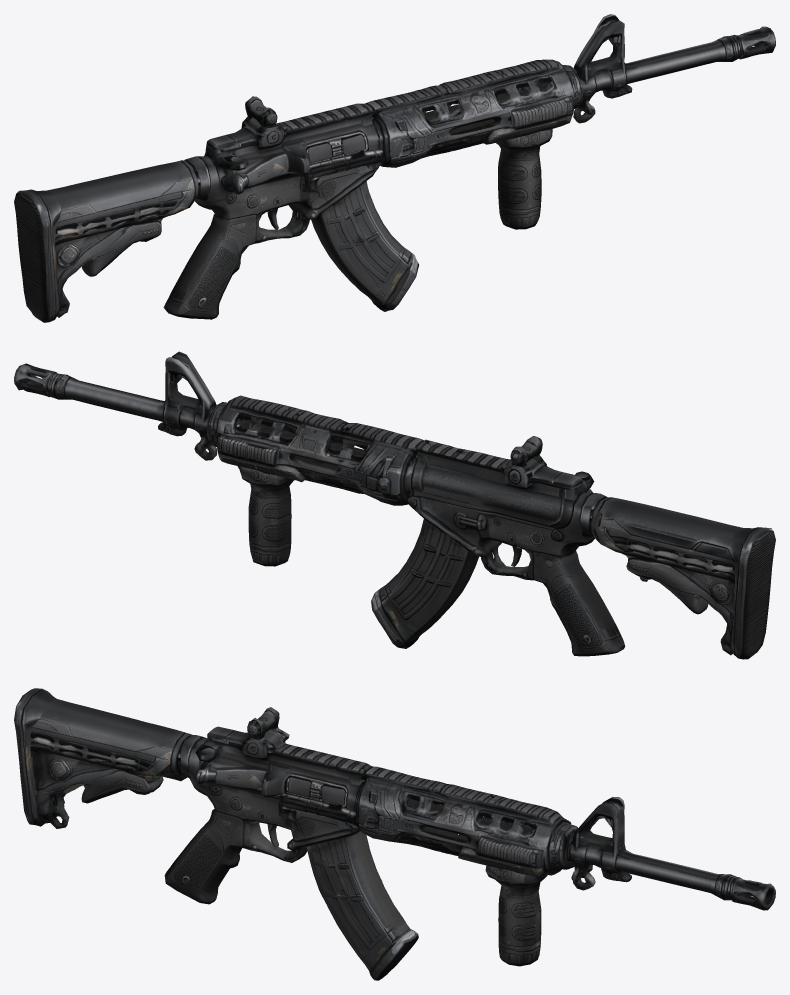
File: tripo_convert_e1a88590-46aa-43c6-ab76-ba9d8a789e01.fbx
3 renders of one model, top to bottom at view 1: azimuth 30°, elevation 25°; view 2: azimuth 150°, elevation 25°; view 3: azimuth 330°, elevation 25°, orthographic.
Visible parts, largest first — view 1: tripo_node_e1a88590; view 2: tripo_node_e1a88590; view 3: tripo_node_e1a88590.
Part boxes in pixels (x1=…): tripo_node_e1a88590: x1=14, y1=14, x2=775, y2=322; tripo_node_e1a88590: x1=14, y1=351, x2=775, y2=659; tripo_node_e1a88590: x1=14, y1=688, x2=775, y2=980.
Bounding box in the file's own units: 97.96 × 9.81 × 29.51.
1 material, 1 textured.
